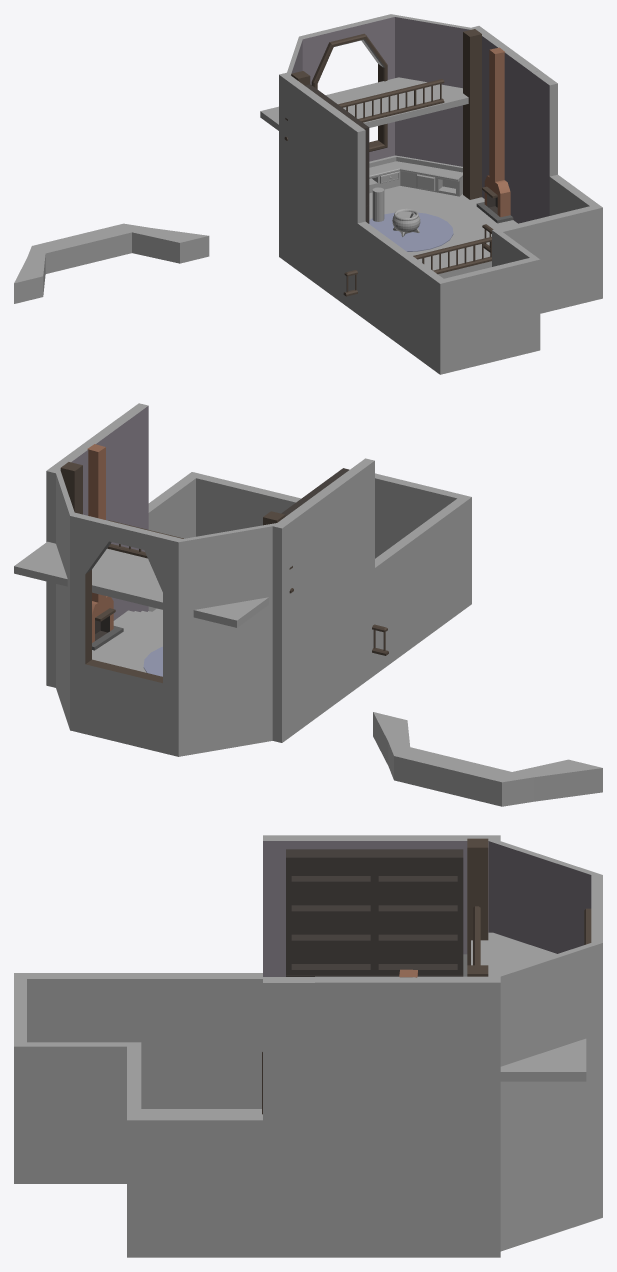
File: room_v1.fbx
The picture shows the model from 3 angles, top to bottom: view 1: azimuth 30°, elevation 25°; view 2: azimuth 150°, elevation 25°; view 3: azimuth 270°, elevation 25°; orthographic projection. The views are drawn at different scales.
Parts seen in each view (by area): view 1: floor, pCube9, second_floor, Fireplace, collum_1, circle_rug, counter_right, counter_mid, Cauldron, Book_Shelf3; view 2: floor, pCube9, second_floor, Fireplace, collum_1; view 3: floor, Book_Shelf2, Book_Shelf3, second_floor, collum.
Boxes of the visible parts, x1=… form: floor: x1=279, y1=14, x2=602, y2=374; pCube9: x1=14, y1=223, x2=209, y2=303; second_floor: x1=260, y1=77, x2=468, y2=130; Fireplace: x1=476, y1=47, x2=513, y2=223; collum_1: x1=463, y1=29, x2=481, y2=199; circle_rug: x1=369, y1=212, x2=453, y2=251; counter_right: x1=399, y1=158, x2=462, y2=196; counter_mid: x1=369, y1=155, x2=414, y2=193; Cauldron: x1=392, y1=208, x2=420, y2=236; Book_Shelf3: x1=334, y1=105, x2=369, y2=205; floor: x1=46, y1=403, x2=471, y2=756; pCube9: x1=373, y1=712, x2=602, y2=806; second_floor: x1=14, y1=541, x2=268, y2=627; Fireplace: x1=87, y1=444, x2=123, y2=650; collum_1: x1=60, y1=462, x2=82, y2=514; floor: x1=14, y1=835, x2=602, y2=1257; Book_Shelf2: x1=372, y1=849, x2=463, y2=975; Book_Shelf3: x1=286, y1=849, x2=376, y2=975; second_floor: x1=471, y1=932, x2=586, y2=1081; collum: x1=467, y1=838, x2=488, y2=965.
Size of the model in its own units: 2804 by 1051 by 2022.
